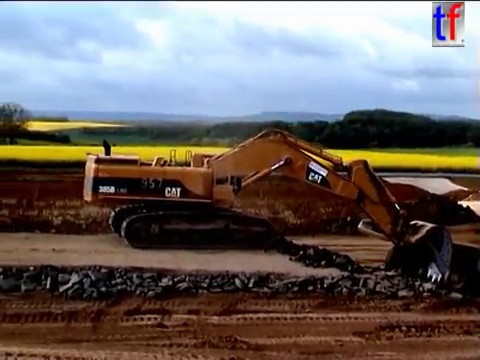excavator: (79, 125, 456, 285)
truck: (353, 190, 480, 300)
